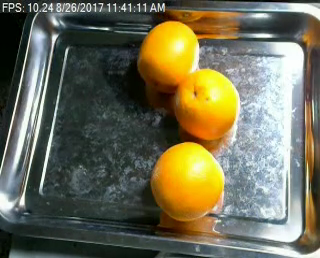Orange: (150, 141, 226, 221), (172, 69, 239, 141), (138, 20, 200, 91)
